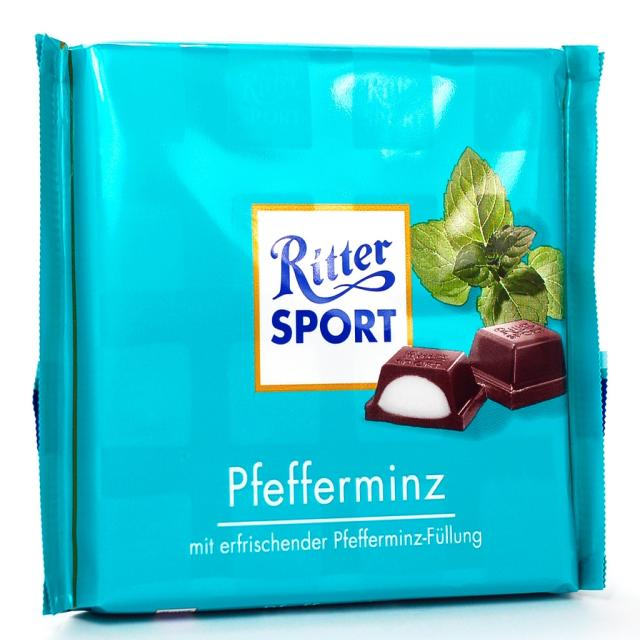rittersport: (253, 205, 414, 392)
